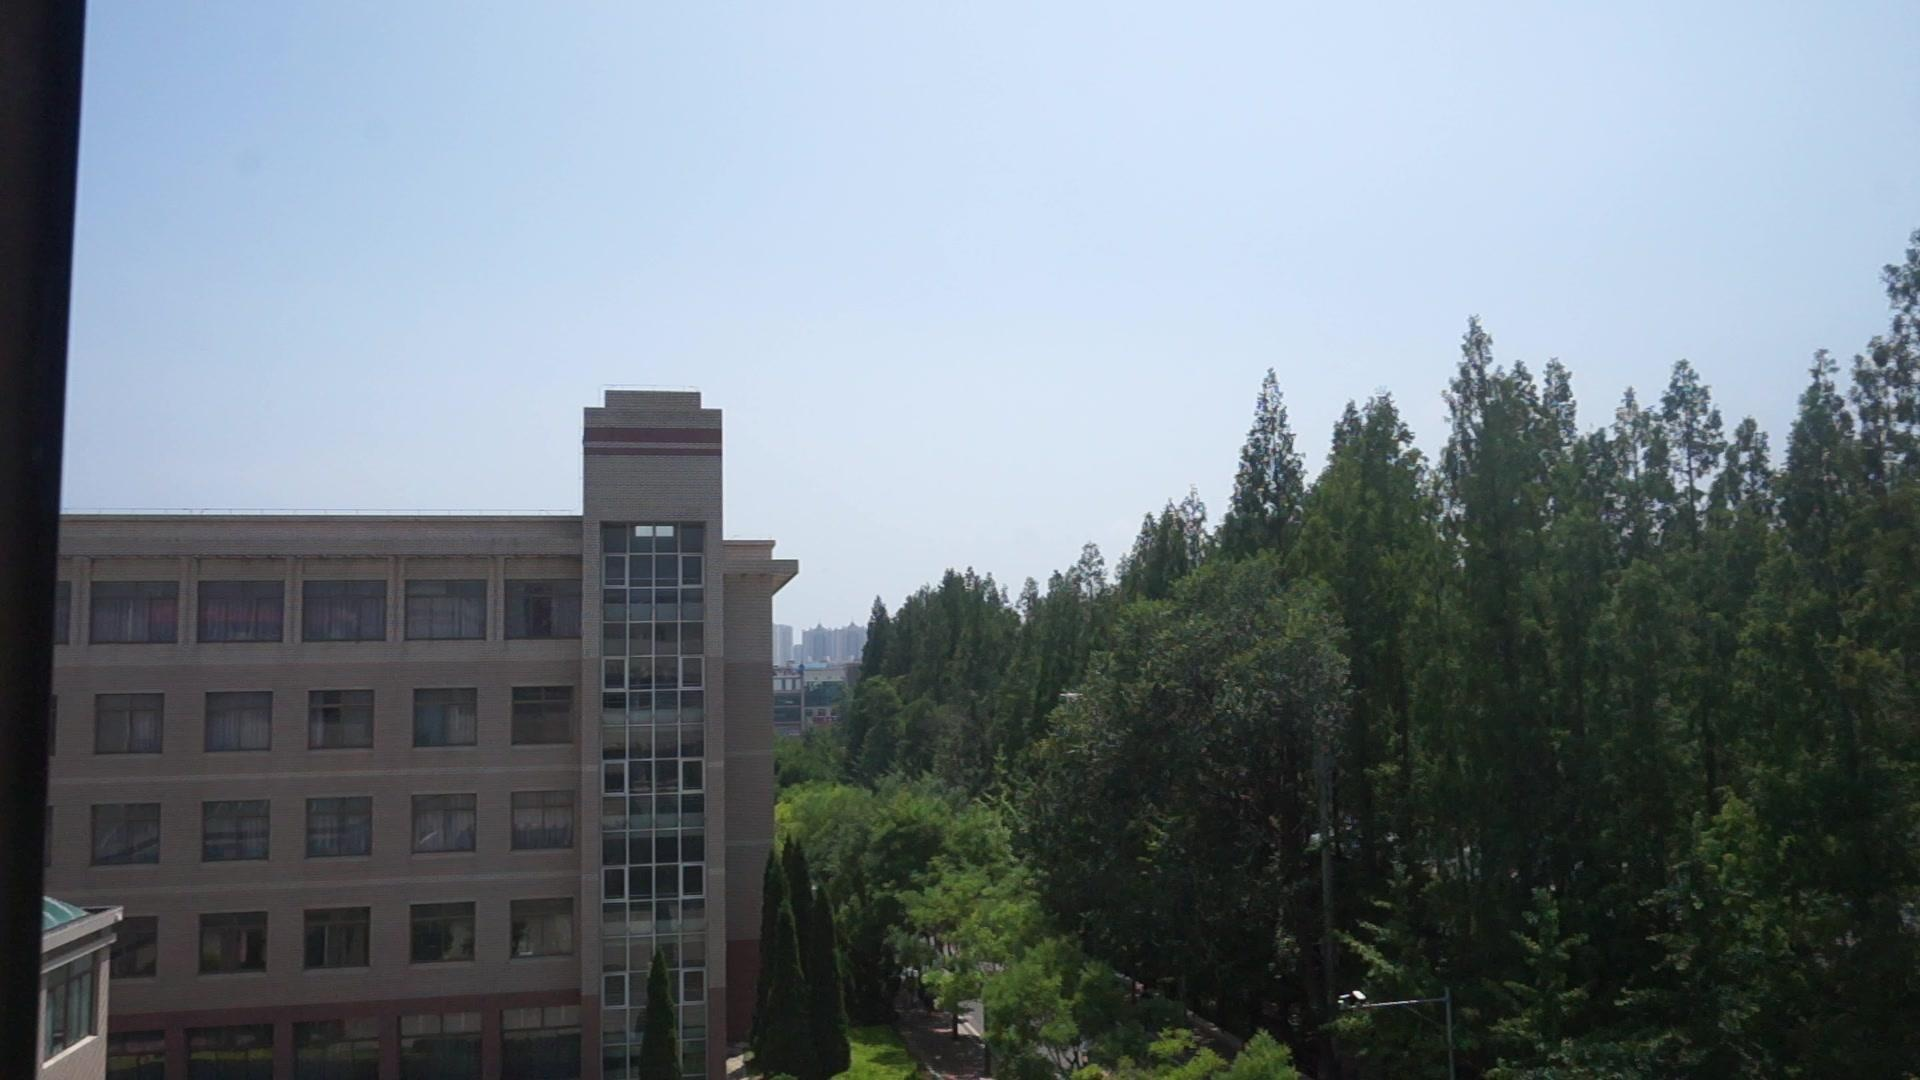UAV: (1062, 694, 1084, 702)
